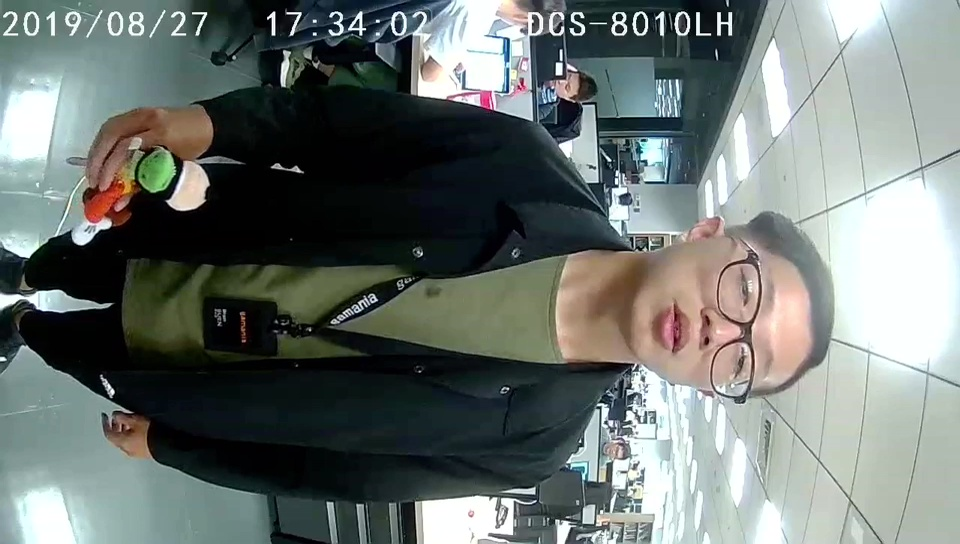goofy: (71, 145, 208, 243)
